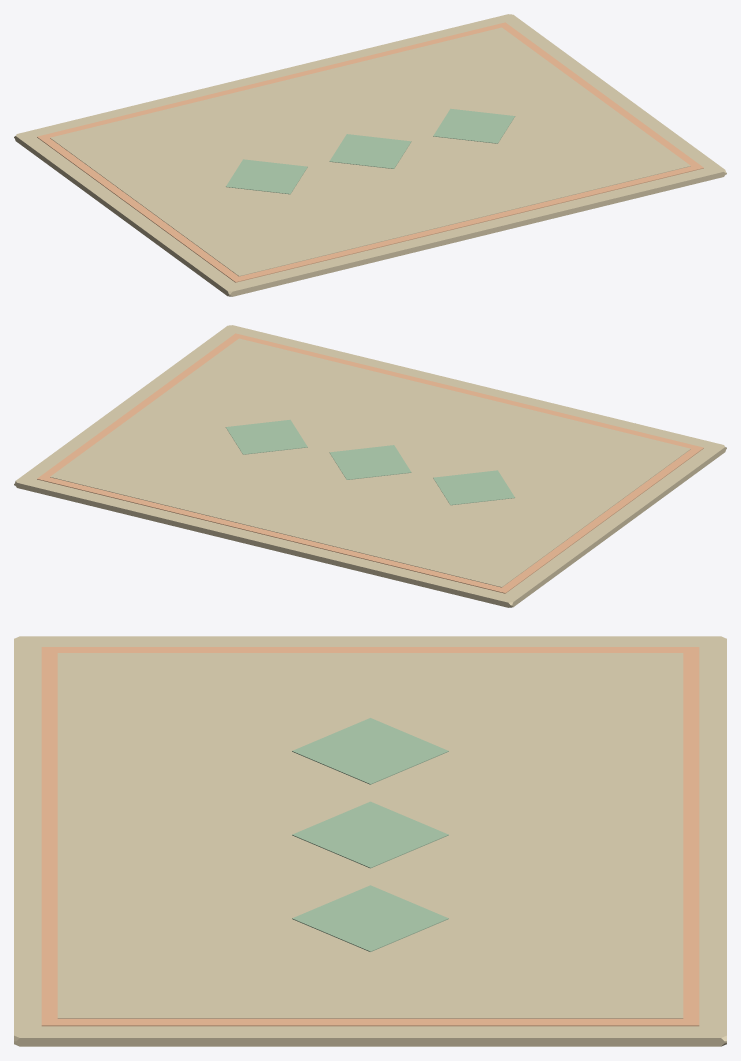
The model's file is Furniture_LivingRug.glb.
The picture shows the model from 3 angles, top to bottom: view 1: azimuth 30°, elevation 25°; view 2: azimuth 150°, elevation 25°; view 3: azimuth 270°, elevation 25°; orthographic projection. The views are drawn at different scales.
Visible parts, largest first — view 1: Furniture_LivingRug; view 2: Furniture_LivingRug; view 3: Furniture_LivingRug.
Boxes of the visible parts, x1=… form: Furniture_LivingRug: x1=14, y1=14, x2=726, y2=296; Furniture_LivingRug: x1=14, y1=325, x2=726, y2=607; Furniture_LivingRug: x1=14, y1=636, x2=726, y2=1046.
Bounding box in the file's own units: 2.4 × 0.031 × 1.8.
